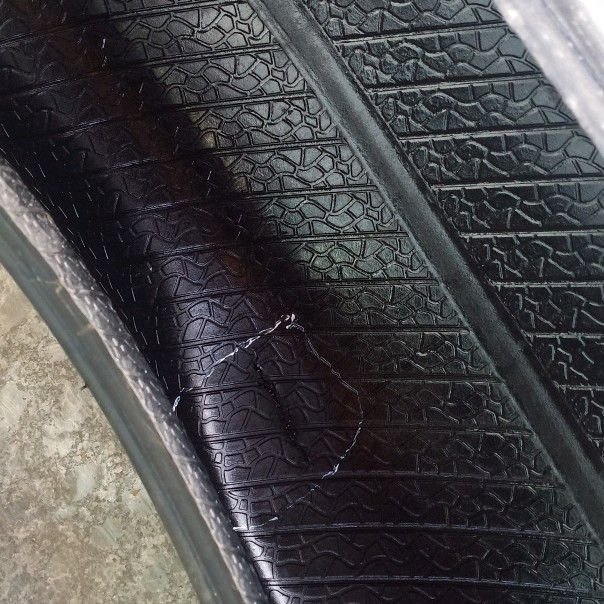CBU: (246, 359, 314, 477)
